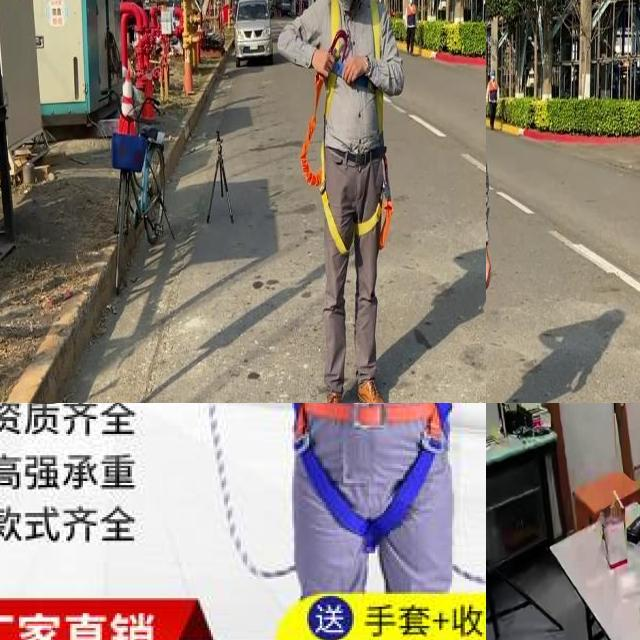Harness: (281, 403, 458, 549), (300, 74, 394, 256), (329, 0, 382, 75)
